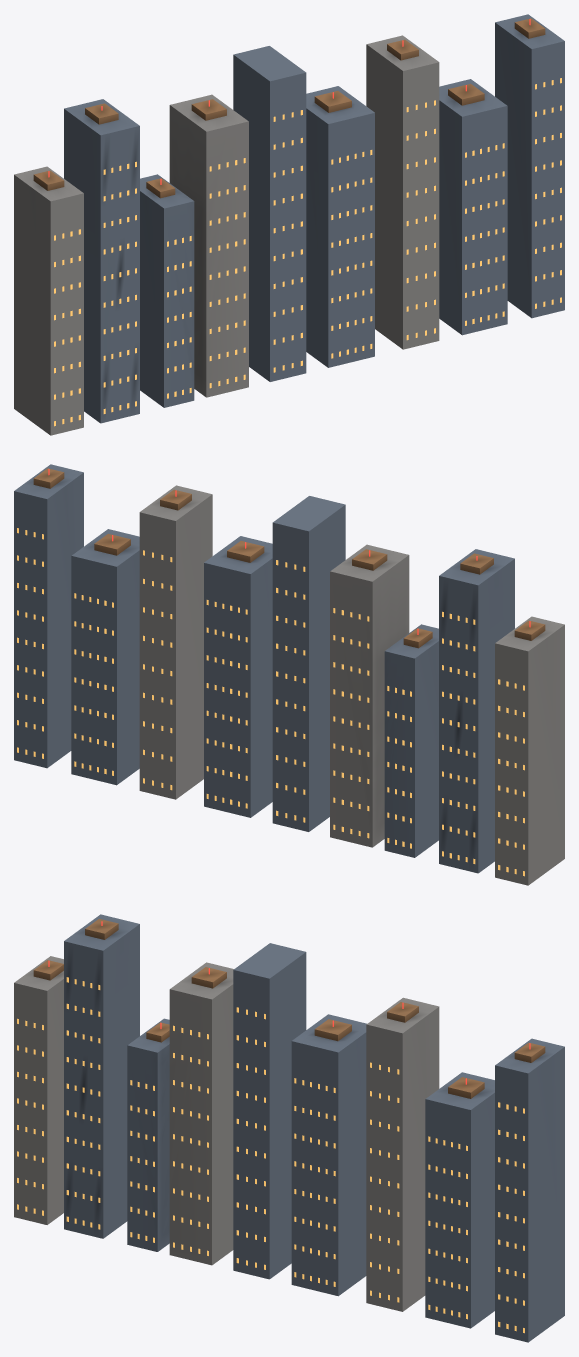
File: 03_skyline_backdrop.glb
3 views of the same model, one above another, from view 1: azimuth 30°, elevation 25°; view 2: azimuth 150°, elevation 25°; view 3: azimuth 330°, elevation 25° (orthographic).
Parts seen in each view (by area): view 1: skyline_backdrop_glasstower, skyline_backdrop_concretedark, skyline_backdrop_windowwarm_nocol, skyline_backdrop_steelrust; view 2: skyline_backdrop_glasstower, skyline_backdrop_concretedark, skyline_backdrop_windowwarm_nocol, skyline_backdrop_steelrust; view 3: skyline_backdrop_glasstower, skyline_backdrop_concretedark, skyline_backdrop_windowwarm_nocol, skyline_backdrop_steelrust.
Part boxes in pixels (bbox=[...]): skyline_backdrop_glasstower: bbox=[64, 14, 564, 423]; skyline_backdrop_concretedark: bbox=[14, 35, 439, 435]; skyline_backdrop_windowwarm_nocol: bbox=[54, 78, 561, 426]; skyline_backdrop_steelrust: bbox=[33, 18, 545, 198]; skyline_backdrop_glasstower: bbox=[14, 464, 514, 873]; skyline_backdrop_concretedark: bbox=[139, 485, 564, 885]; skyline_backdrop_windowwarm_nocol: bbox=[17, 528, 524, 876]; skyline_backdrop_steelrust: bbox=[33, 468, 545, 648]; skyline_backdrop_glasstower: bbox=[64, 914, 564, 1342]; skyline_backdrop_concretedark: bbox=[14, 956, 439, 1311]; skyline_backdrop_windowwarm_nocol: bbox=[17, 977, 524, 1333]; skyline_backdrop_steelrust: bbox=[33, 919, 545, 1098].
Bounding box in the file's own units: 340 × 190 × 42.15.
